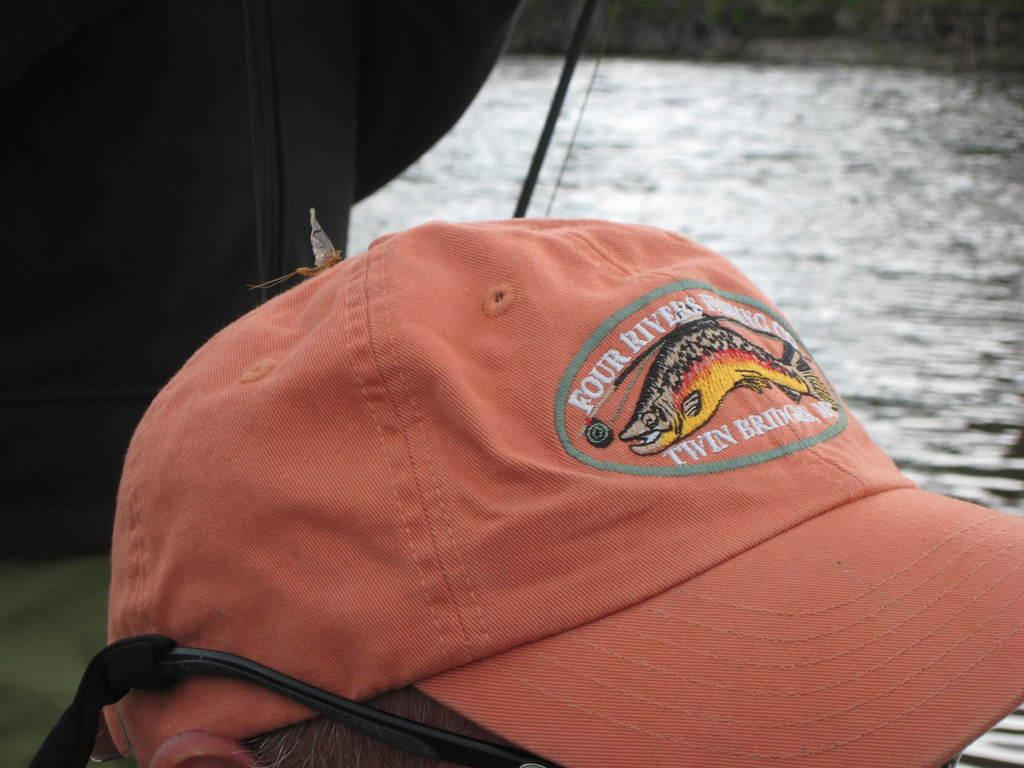Hat: (103, 220, 1023, 766)
